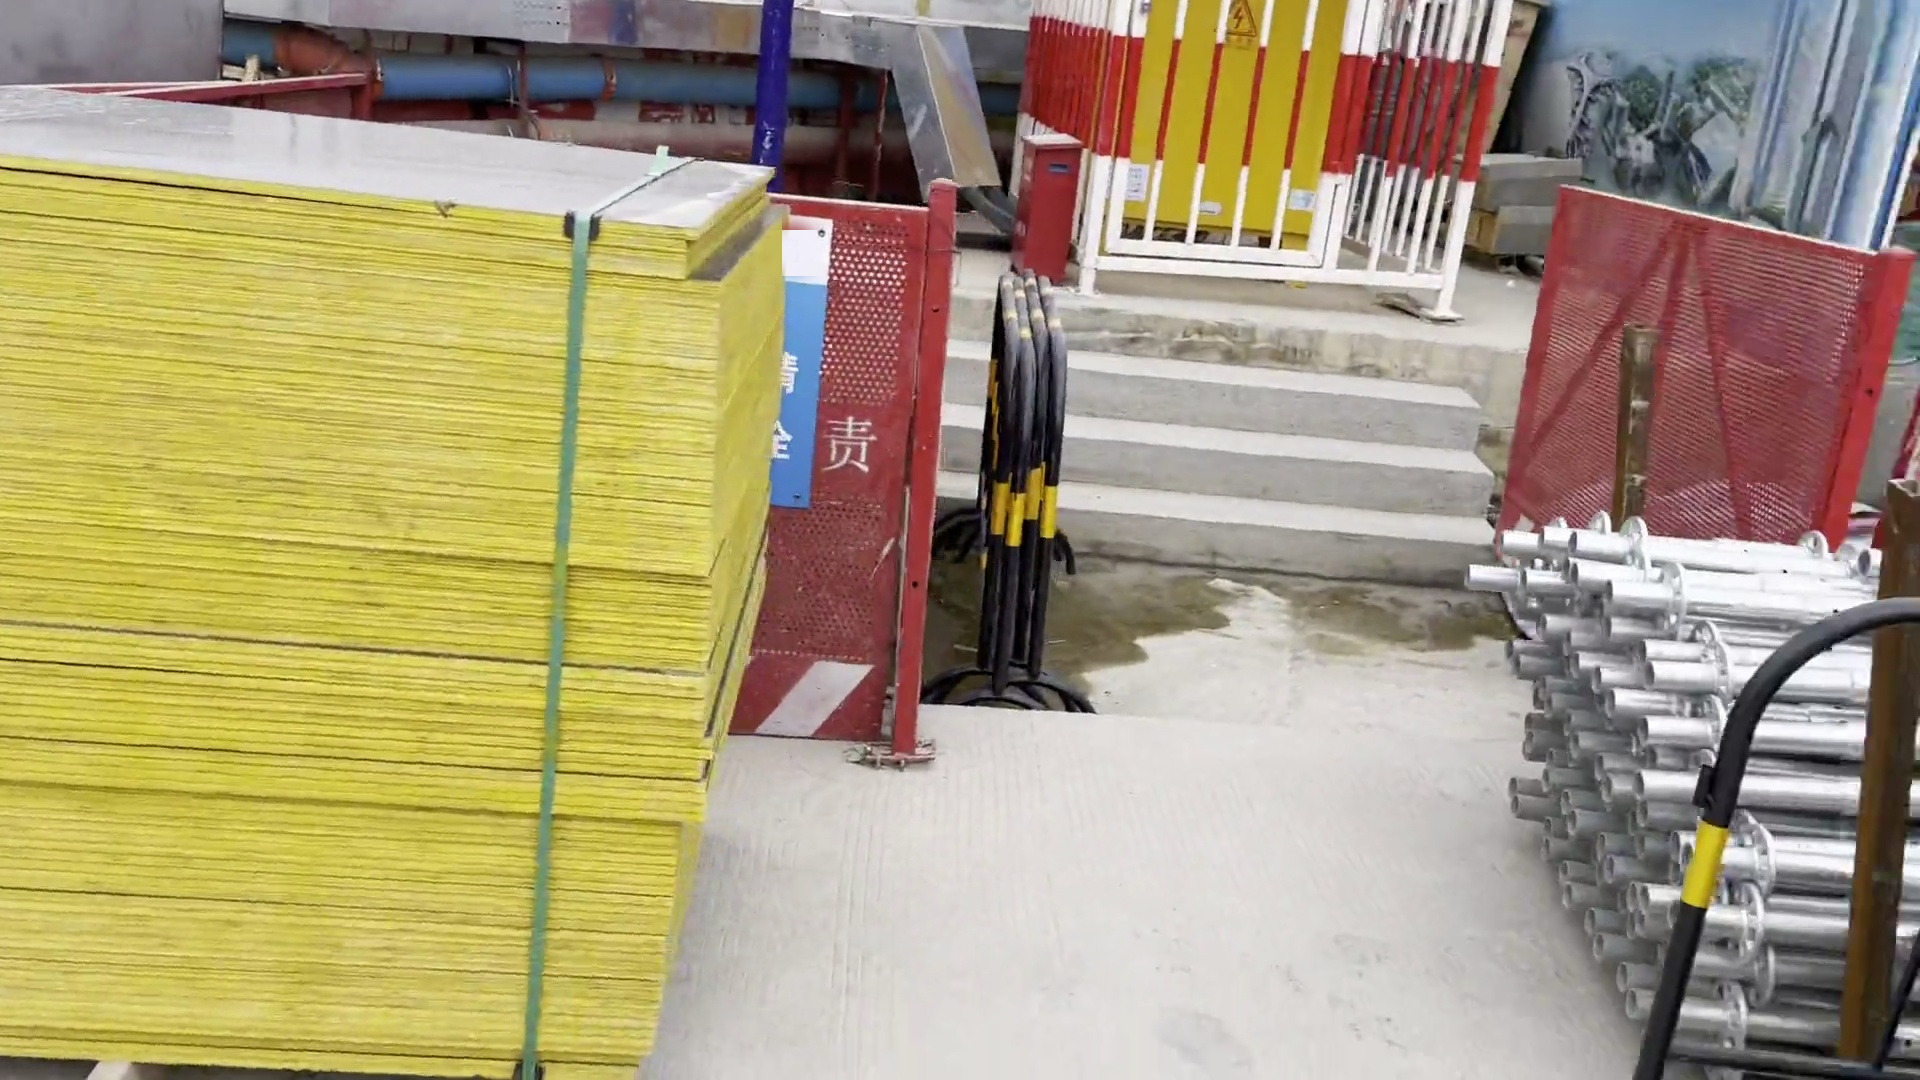board: (1, 75, 781, 1080)
scaffold: (1470, 516, 1920, 1067)
